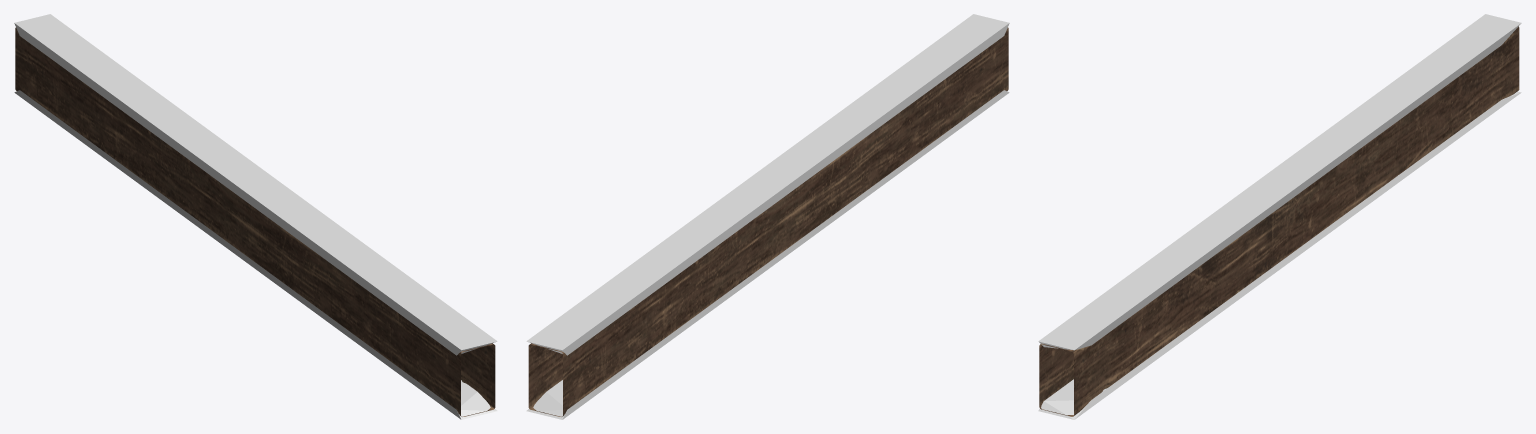
The model's file is SM_WoodPanel_02.fbx.
3 views of the same model, side by side, from view 1: azimuth 30°, elevation 25°; view 2: azimuth 150°, elevation 25°; view 3: azimuth 330°, elevation 25° (orthographic).
Visible parts, largest first — view 1: SM_WoodPanel_02_LOD0, SM_WoodPanel_02_ConvexHulls; view 2: SM_WoodPanel_02_LOD0, SM_WoodPanel_02_ConvexHulls; view 3: SM_WoodPanel_02_LOD0, SM_WoodPanel_02_ConvexHulls.
Part boxes in pixels (x1=…): SM_WoodPanel_02_LOD0: x1=15, y1=27, x2=495, y2=416; SM_WoodPanel_02_ConvexHulls: x1=14, y1=14, x2=497, y2=419; SM_WoodPanel_02_LOD0: x1=528, y1=27, x2=1008, y2=416; SM_WoodPanel_02_ConvexHulls: x1=526, y1=14, x2=1009, y2=419; SM_WoodPanel_02_LOD0: x1=1039, y1=26, x2=1519, y2=416; SM_WoodPanel_02_ConvexHulls: x1=1038, y1=14, x2=1521, y2=419.
Size of the model in its own units: 25.69 by 548 by 47.09.
